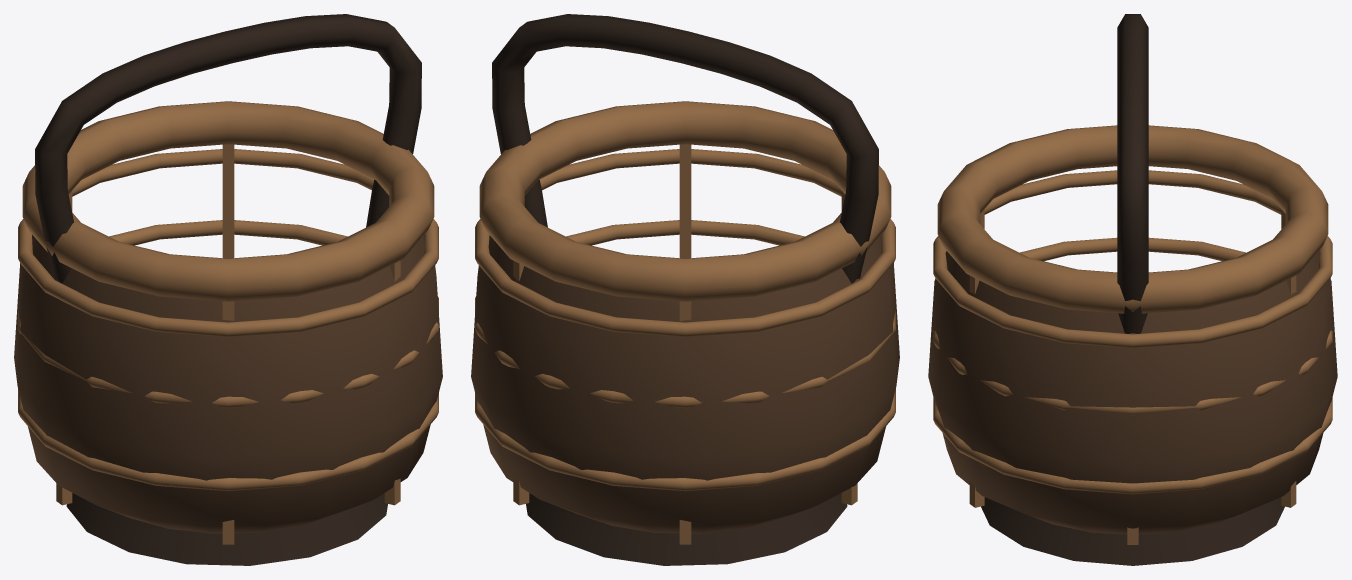
File: sk_basket.glb
The picture shows the model from 3 angles, left to right: view 1: azimuth 30°, elevation 25°; view 2: azimuth 150°, elevation 25°; view 3: azimuth 270°, elevation 25°; orthographic projection. The views are drawn at different scales.
Visible parts, largest first — view 1: wood; view 2: wood; view 3: wood.
Part boxes in pixels (x1,y1,x2,y2): wood: (14, 14, 442, 565); wood: (471, 14, 899, 565); wood: (928, 14, 1337, 565).
Size of the model in its own units: 0.6693 by 0.7817 by 0.66.
